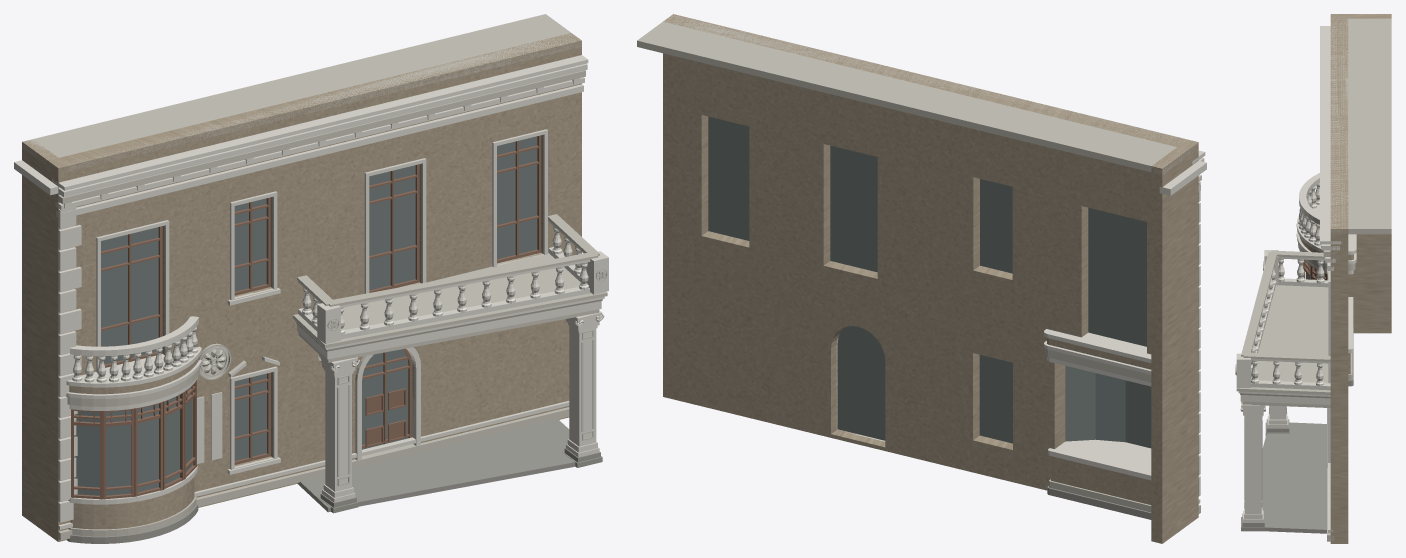
The model's file is jingan-zhu-douwen-residence-side-porch-lod.glb.
The picture shows the model from 3 angles, left to right: view 1: azimuth 30°, elevation 25°; view 2: azimuth 150°, elevation 25°; view 3: azimuth 270°, elevation 25°; orthographic projection. The views are drawn at different scales.
Visible parts, largest first — view 1: 朱斗文公馆侧门柱廊与弧窗; view 2: 朱斗文公馆侧门柱廊与弧窗; view 3: 朱斗文公馆侧门柱廊与弧窗.
Part boxes in pixels (x1,y1,x2,y2): 朱斗文公馆侧门柱廊与弧窗: (14,14,608,543); 朱斗文公馆侧门柱廊与弧窗: (637,14,1206,543); 朱斗文公馆侧门柱廊与弧窗: (1235,14,1391,543).
Size of the model in its own units: 14.07 by 9.49 by 4.25.
7 materials, 1 textured.
